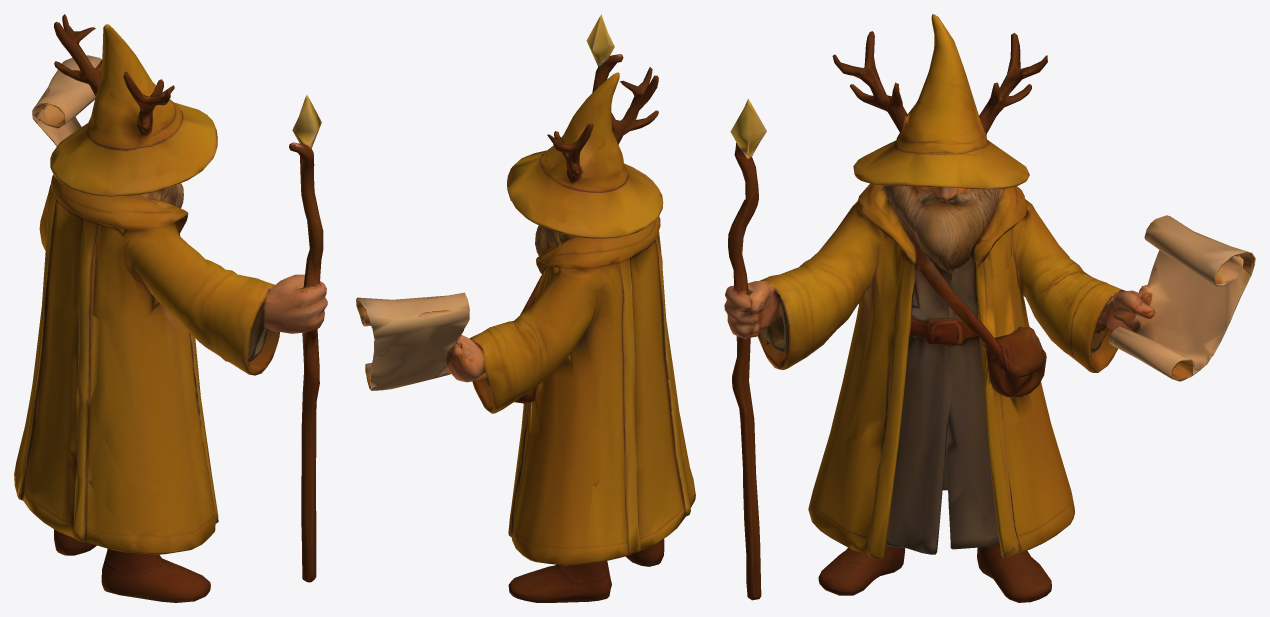
The picture shows the model from 3 angles, left to right: view 1: azimuth 30°, elevation 25°; view 2: azimuth 150°, elevation 25°; view 3: azimuth 270°, elevation 25°; orthographic projection. The views are drawn at different scales.
Visible parts, largest first — view 1: tripo_node_c0bcbe53-87f3-470b-9187-14668362fa7a; view 2: tripo_node_c0bcbe53-87f3-470b-9187-14668362fa7a; view 3: tripo_node_c0bcbe53-87f3-470b-9187-14668362fa7a.
Boxes of the visible parts, <box> form: tripo_node_c0bcbe53-87f3-470b-9187-14668362fa7a: <box>14,14,327,602</box>; tripo_node_c0bcbe53-87f3-470b-9187-14668362fa7a: <box>356,14,695,602</box>; tripo_node_c0bcbe53-87f3-470b-9187-14668362fa7a: <box>724,14,1255,602</box>.
Bounding box in the file's own units: 0.4144 × 0.9997 × 0.8643.
1 material, 1 textured.
